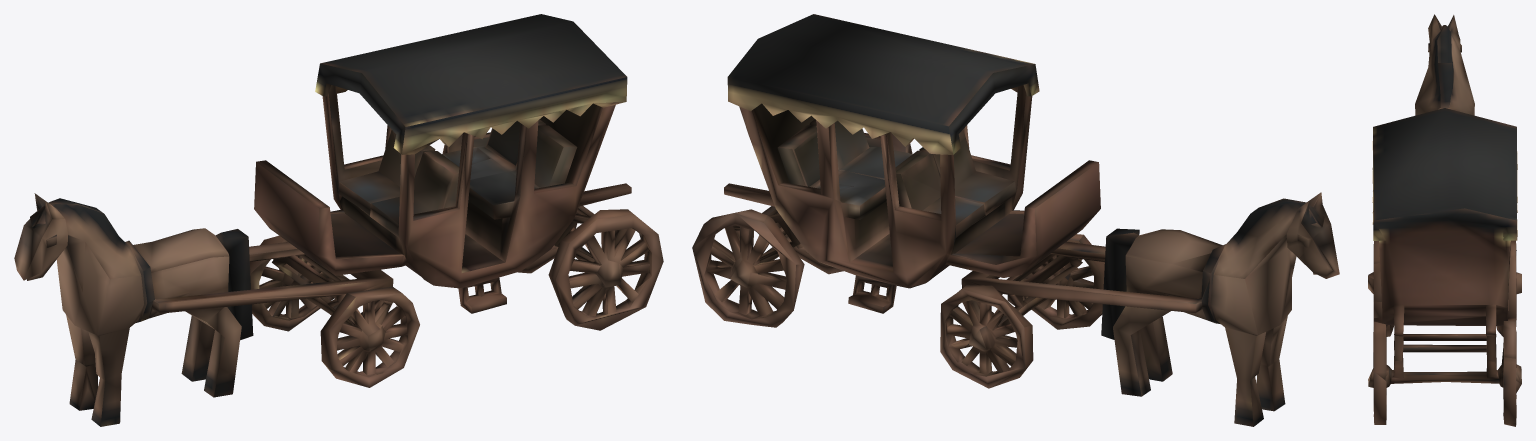
File: fayton.glb
The picture shows the model from 3 angles, left to right: view 1: azimuth 30°, elevation 25°; view 2: azimuth 150°, elevation 25°; view 3: azimuth 270°, elevation 25°; orthographic projection. The views are drawn at different scales.
Parts seen in each view (by area): view 1: node_0; view 2: node_0; view 3: node_0.
Boxes of the visible parts, x1,y1,x2,y2 form: node_0: [14, 14, 663, 426]; node_0: [692, 14, 1339, 426]; node_0: [1368, 14, 1521, 426].
Bounding box in the file's own units: 1.12 × 0.4921 × 0.2974.
1 material, 1 textured.
